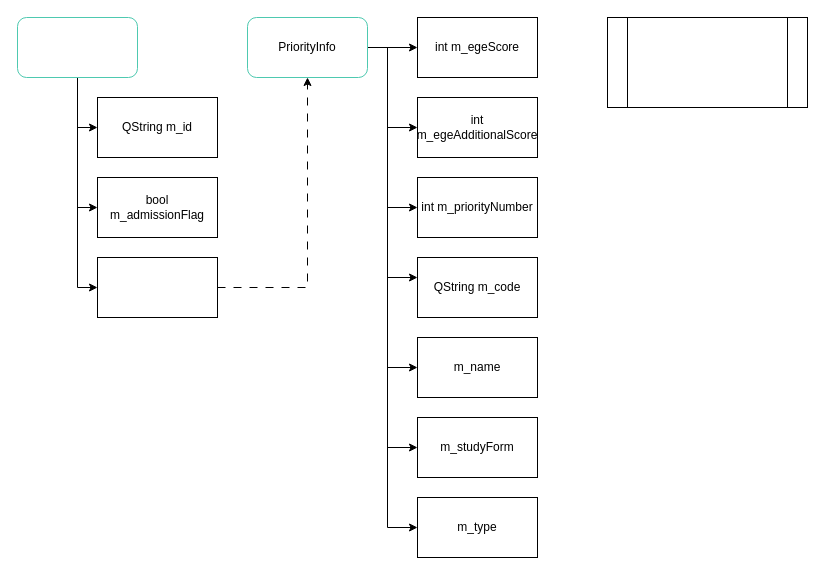
This 825x575 diagram has some shape labels left out. The shapes that lost their labels are listed below. From the top down, each one's box as (x1, y1, x2, y2) in pixels, then its label:
(16, 16, 138, 78): Applicant
(606, 16, 808, 108): Each field was made with Q_PROPERTY
(96, 256, 218, 318): QList<PriorityInfo> m_priorities
